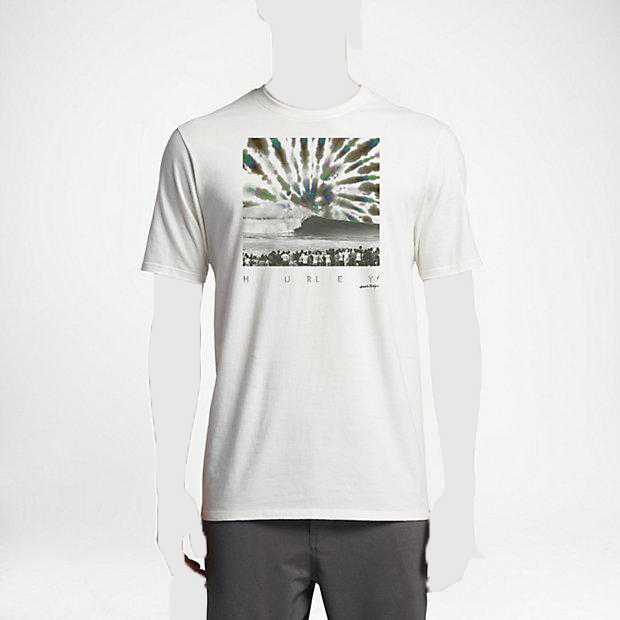teeshirt: (138, 75, 494, 523)
